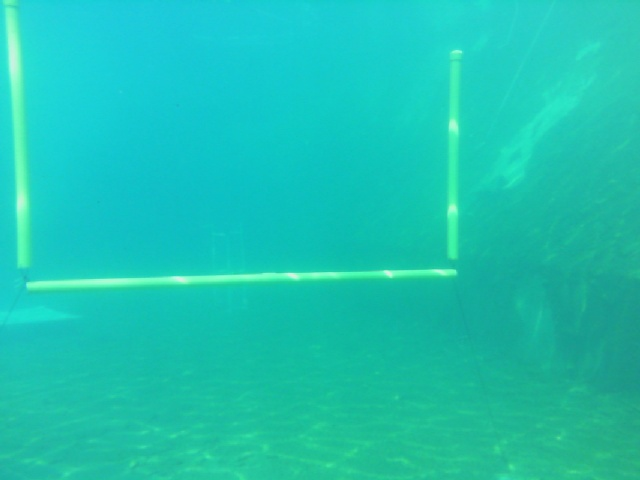channel: (2, 2, 466, 300)
